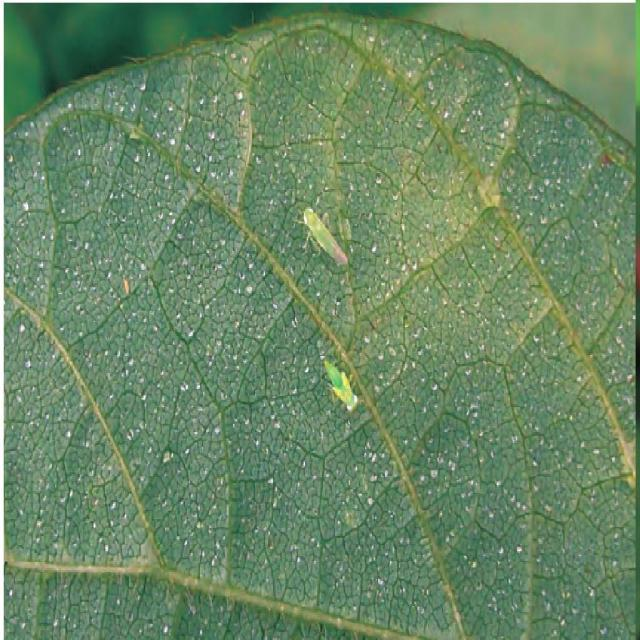Yechan: (292, 203, 354, 276)
